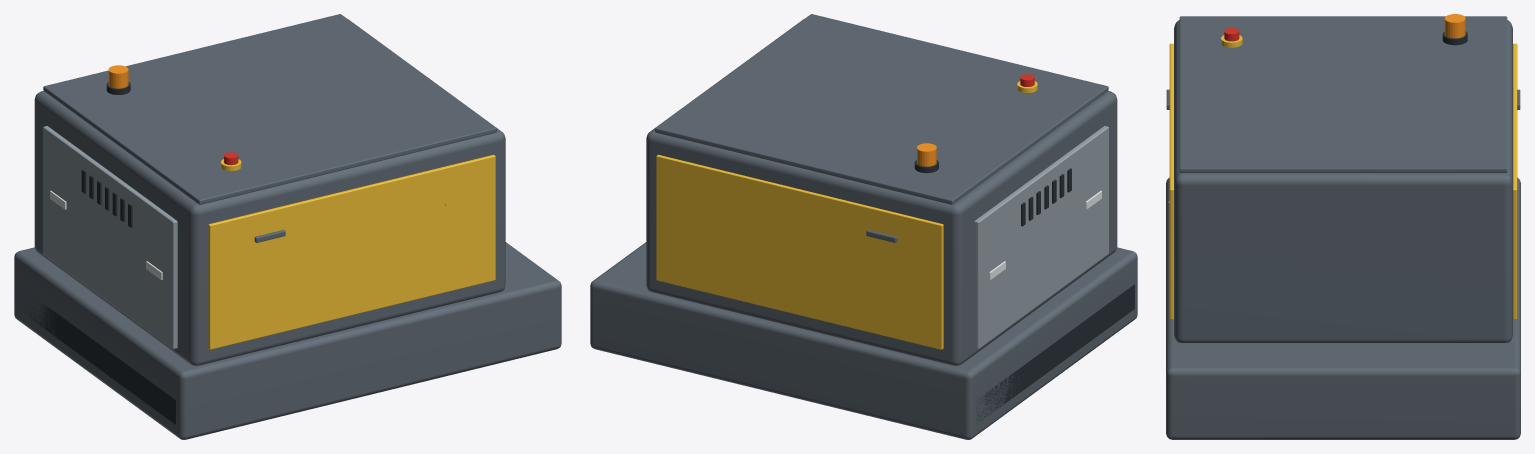
File: SM_AGVBody.fbx
3 views of the same model, side by side, from view 1: azimuth 30°, elevation 25°; view 2: azimuth 150°, elevation 25°; view 3: azimuth 270°, elevation 25° (orthographic). The views are drawn at different scales.
Parts seen in each view (by area): view 1: SM_AGVBody; view 2: SM_AGVBody; view 3: SM_AGVBody.
Part boxes in pixels (x1,y1,x2,y2): SM_AGVBody: [14, 14, 561, 439]; SM_AGVBody: [590, 14, 1137, 439]; SM_AGVBody: [1166, 14, 1520, 439].
Size of the model in its own units: 98.5 by 129 by 81.6.
